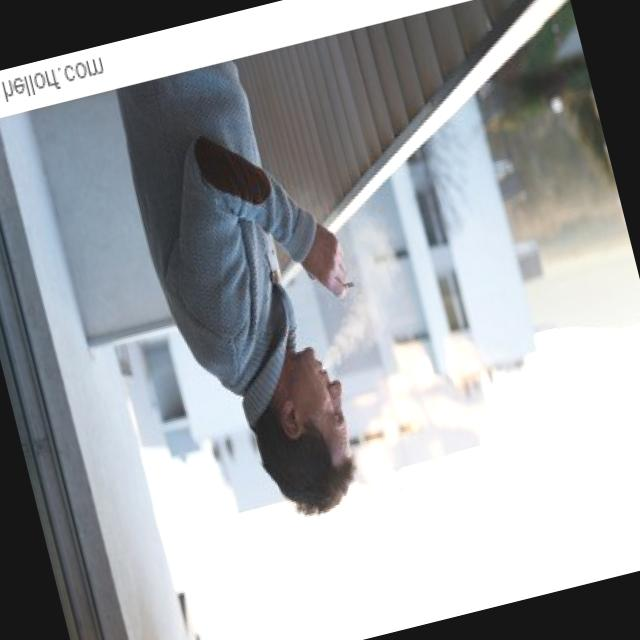smoke: (339, 277, 356, 292)
